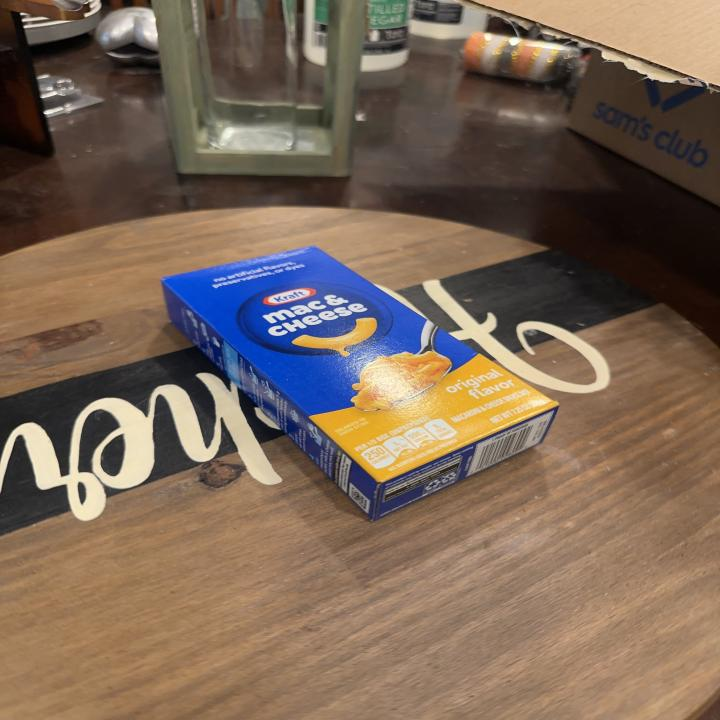Mac-And-Cheese: (162, 243, 558, 520)
